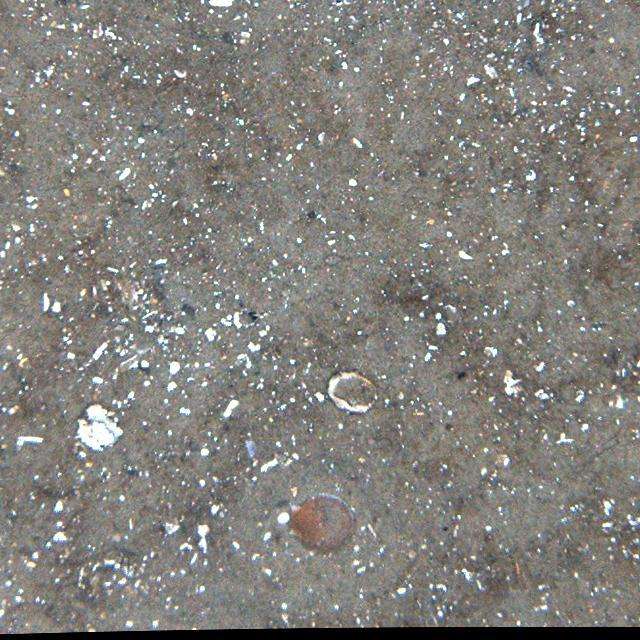scallop: (286, 491, 360, 557)
